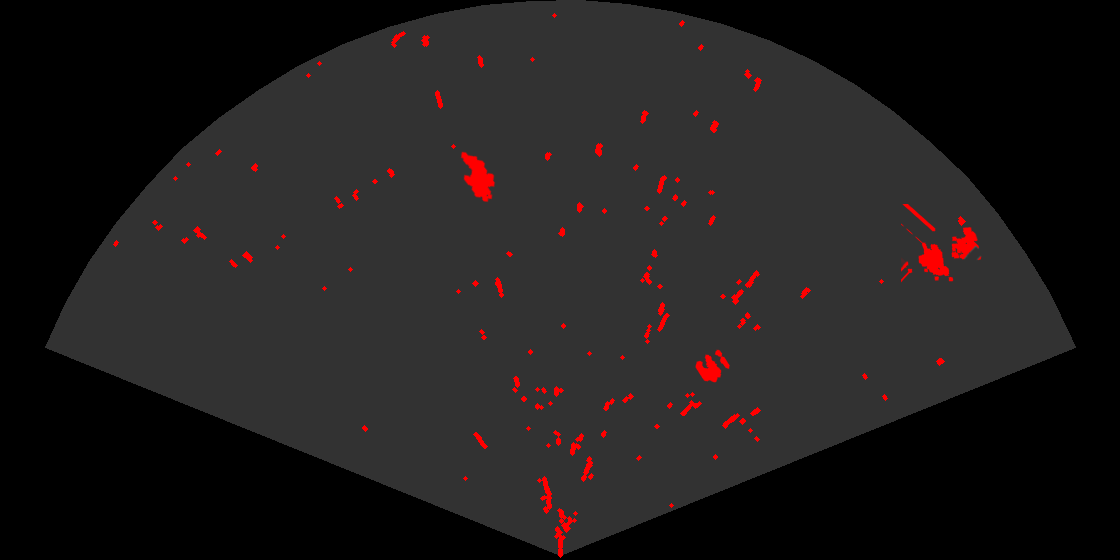AUV: (459, 150, 497, 204)
ball: (694, 348, 731, 384)
cage: (901, 204, 983, 284)
